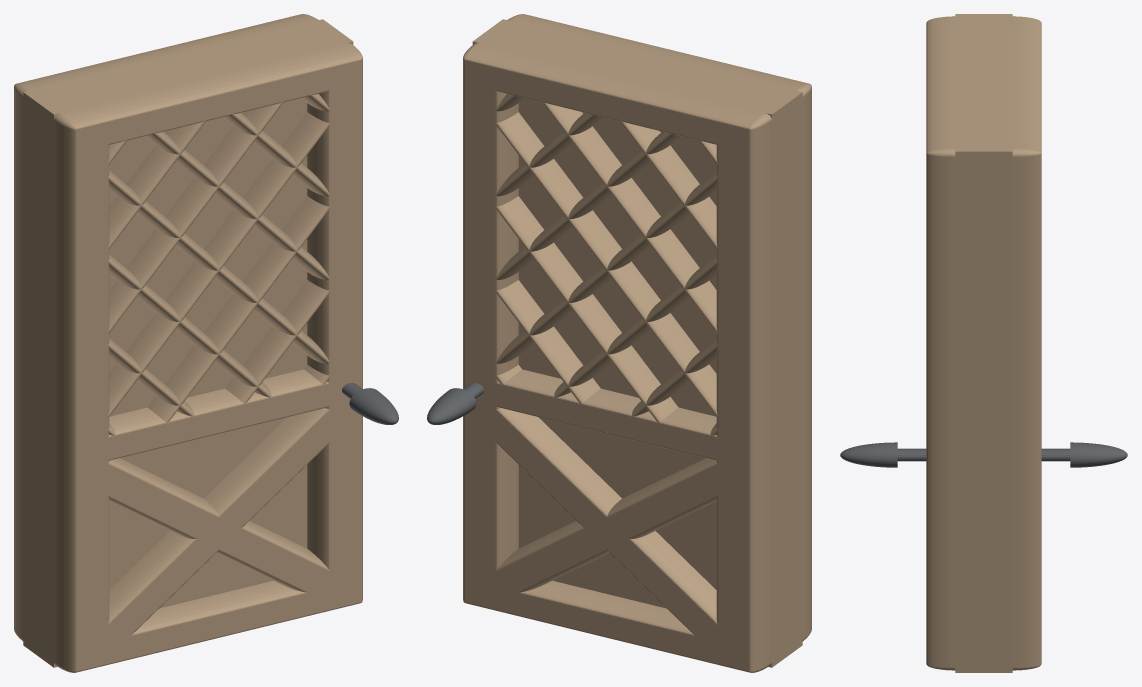
Rendered from new-door.glb.
The picture shows the model from 3 angles, left to right: view 1: azimuth 30°, elevation 25°; view 2: azimuth 150°, elevation 25°; view 3: azimuth 270°, elevation 25°; orthographic projection. The views are drawn at different scales.
Visible parts, largest first — view 1: Mesh_Mesh_head_geo.001_lambert2SG.001; view 2: Mesh_Mesh_head_geo.001_lambert2SG.001; view 3: Mesh_Mesh_head_geo.001_lambert2SG.001.
Boxes of the visible parts, x1,y1,x2,y2 form: Mesh_Mesh_head_geo.001_lambert2SG.001: [14, 14, 398, 672]; Mesh_Mesh_head_geo.001_lambert2SG.001: [427, 14, 811, 672]; Mesh_Mesh_head_geo.001_lambert2SG.001: [840, 14, 1127, 672].
Bounding box in the file's own units: 0.017 × 0.03 × 0.015.
